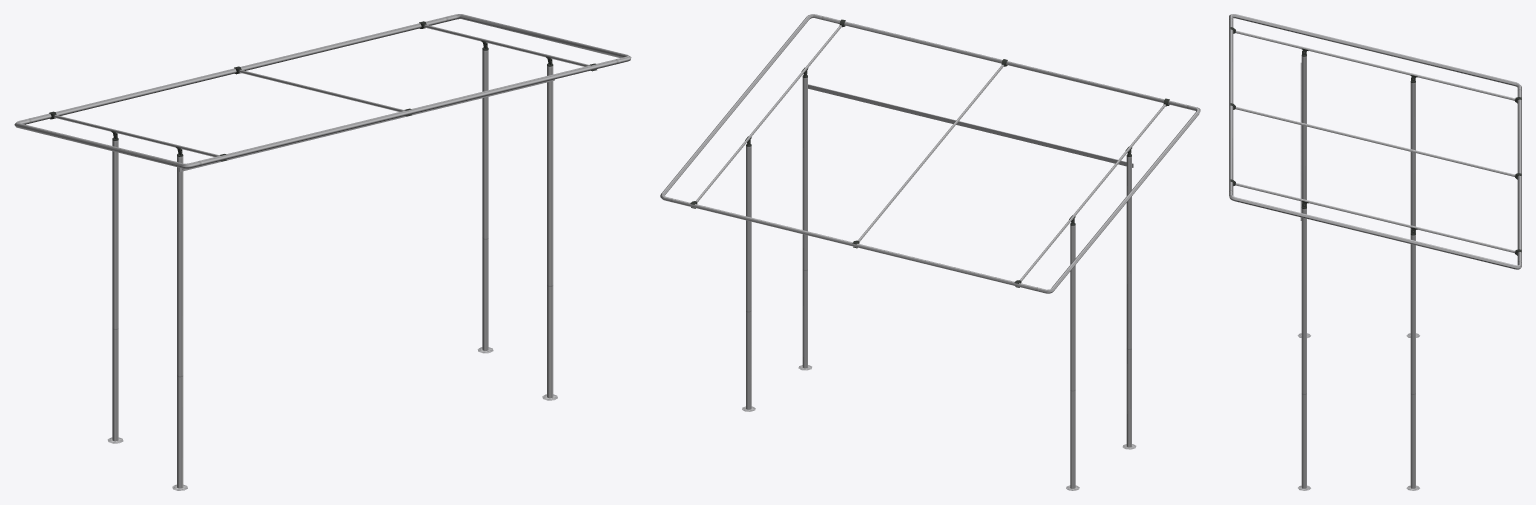
The model's file is jsf_4P_s03_Leg01.fbx.
The picture shows the model from 3 angles, left to right: view 1: azimuth 30°, elevation 25°; view 2: azimuth 150°, elevation 25°; view 3: azimuth 270°, elevation 25°; orthographic projection. The views are drawn at different scales.
Parts seen in each view (by area): view 1: jsf_4P_s03_Leg01; view 2: jsf_4P_s03_Leg01; view 3: jsf_4P_s03_Leg01.
Part boxes in pixels (bbox=[...]): jsf_4P_s03_Leg01: bbox=[14, 14, 631, 490]; jsf_4P_s03_Leg01: bbox=[660, 14, 1200, 490]; jsf_4P_s03_Leg01: bbox=[1229, 14, 1521, 490].
Bounding box in the file's own units: 313 × 243 × 210.
